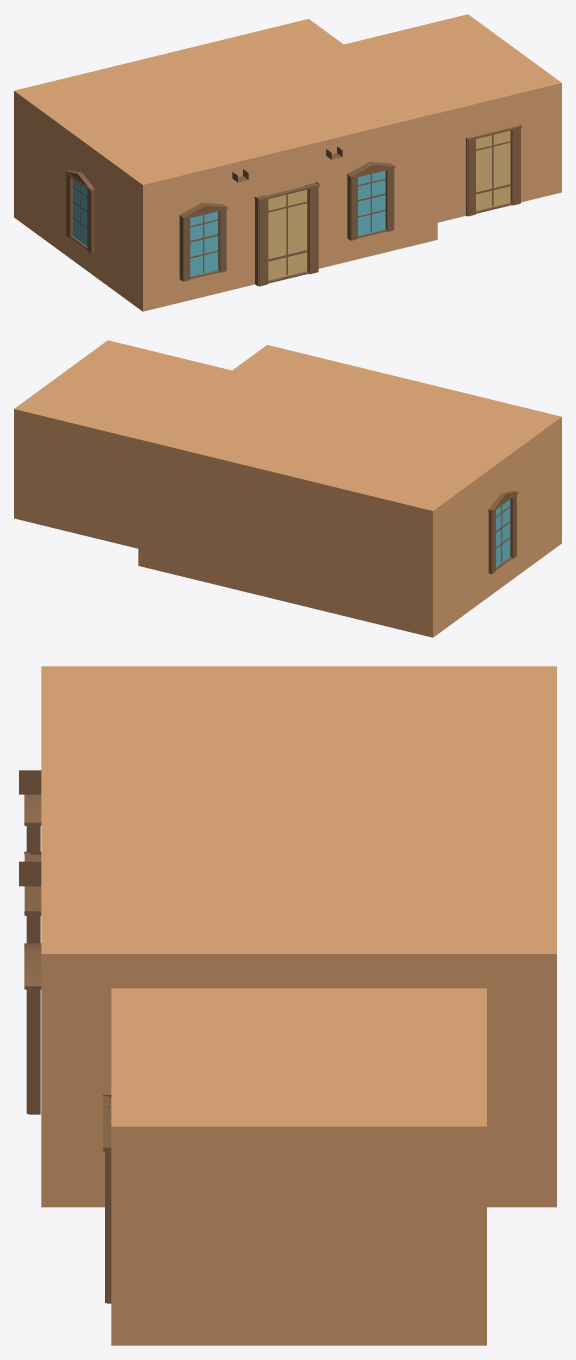
File: Casa Adobe .dae
The picture shows the model from 3 angles, top to bottom: view 1: azimuth 30°, elevation 25°; view 2: azimuth 150°, elevation 25°; view 3: azimuth 270°, elevation 25°; orthographic projection. The views are drawn at different scales.
Visible parts, largest first — view 1: Cube, saloon_windowSaloon_pCube236_002, saloon_windowSaloon_pCube236_003, saloon_windowSaloon_pCube236_001, saloon_windowSaloon_pCube236_000, saloon_windowSaloon_pCube236_004; view 2: Cube, saloon_windowSaloon_pCube236_004; view 3: Cube, saloon_windowSaloon_pCube236_000, saloon_windowSaloon_pCube236_003, saloon_windowSaloon_pCube236_002, saloon_windowSaloon_pCube236_001.
Part boxes in pixels (<box>): Cube: <box>14,14,561,311</box>; saloon_windowSaloon_pCube236_002: <box>254,181,319,286</box>; saloon_windowSaloon_pCube236_003: <box>465,124,521,216</box>; saloon_windowSaloon_pCube236_001: <box>179,202,227,281</box>; saloon_windowSaloon_pCube236_000: <box>347,162,395,240</box>; saloon_windowSaloon_pCube236_004: <box>65,170,94,253</box>; Cube: <box>14,340,561,637</box>; saloon_windowSaloon_pCube236_004: <box>488,491,518,573</box>; Cube: <box>41,666,556,1345</box>; saloon_windowSaloon_pCube236_000: <box>24,943,41,1114</box>; saloon_windowSaloon_pCube236_003: <box>103,1095,111,1303</box>; saloon_windowSaloon_pCube236_002: <box>24,851,41,943</box>; saloon_windowSaloon_pCube236_001: <box>24,794,41,851</box>.
Bounding box in the file's own units: 6.84 × 3.61 × 1.88.
